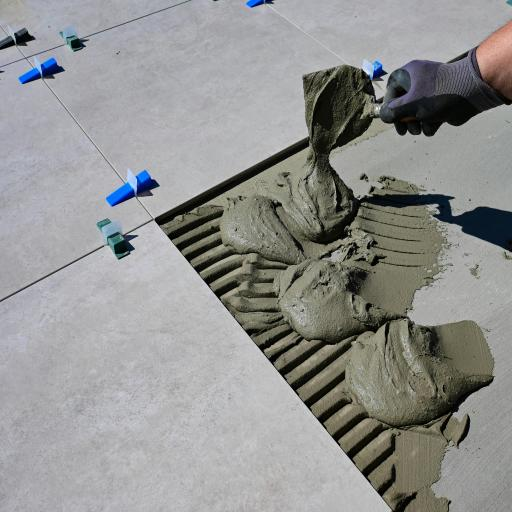Gloves: (369, 35, 512, 157)
